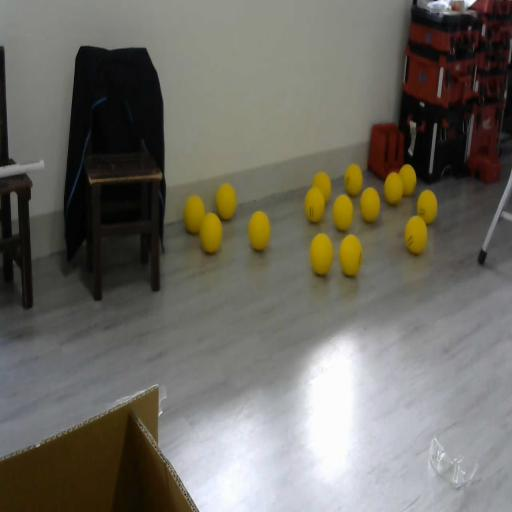FUEL: (338, 232, 364, 278), (309, 231, 334, 276), (246, 209, 272, 252), (198, 210, 223, 254), (404, 214, 428, 255), (332, 192, 354, 231), (416, 188, 438, 226), (215, 182, 237, 220), (184, 194, 205, 233), (360, 186, 380, 223), (312, 171, 332, 204), (344, 164, 363, 196), (398, 163, 417, 195)
